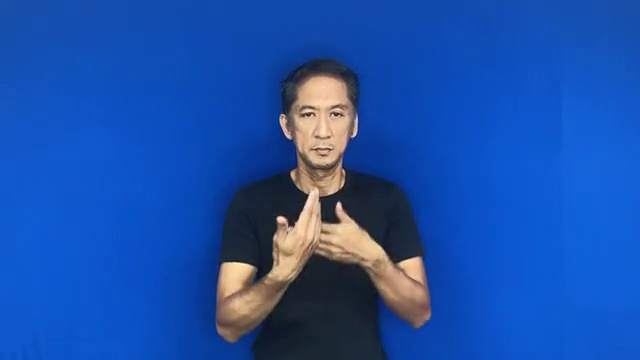bread: (259, 181, 372, 291)
